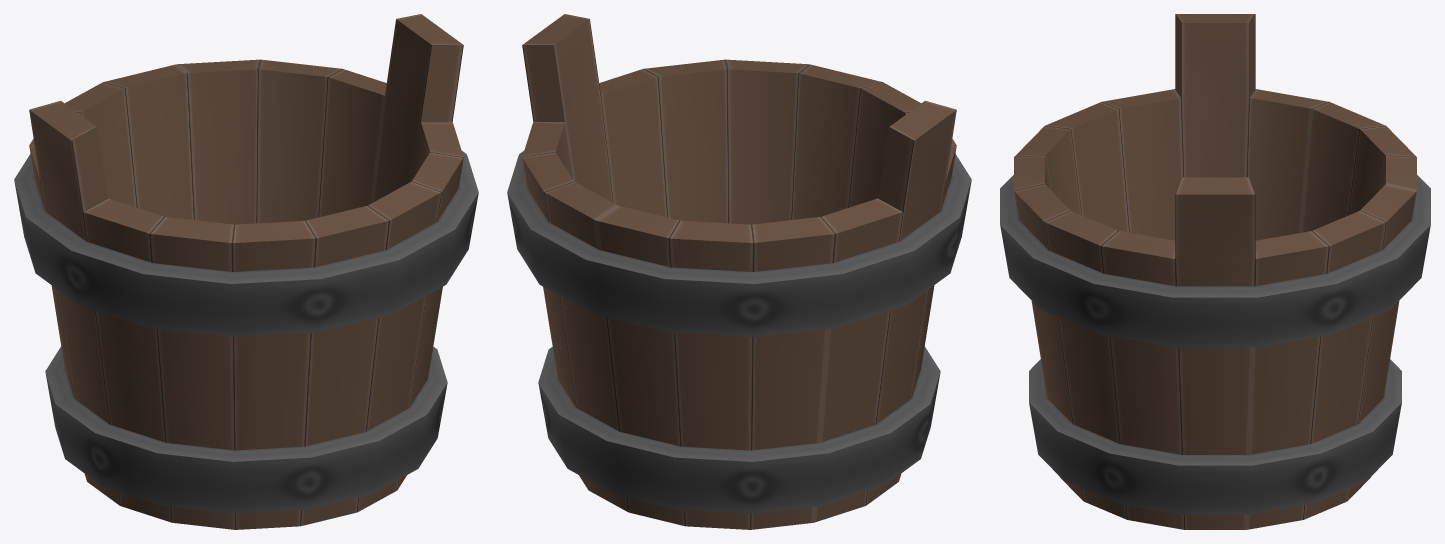
The model's file is Bucket.fbx.
3 views of the same model, side by side, from view 1: azimuth 30°, elevation 25°; view 2: azimuth 150°, elevation 25°; view 3: azimuth 270°, elevation 25° (orthographic). The views are drawn at different scales.
Parts seen in each view (by area): view 1: Cylinder.046; view 2: Cylinder.046; view 3: Cylinder.046.
Part boxes in pixels (x1=…): Cylinder.046: x1=14, y1=14, x2=478, y2=529; Cylinder.046: x1=507, y1=14, x2=971, y2=529; Cylinder.046: x1=1000, y1=14, x2=1430, y2=529.
Size of the model in its own units: 94.2 by 87.85 by 94.2.
